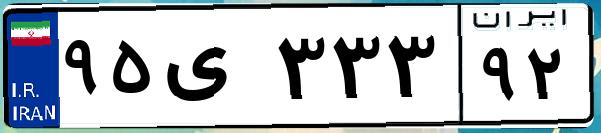2: (525, 38, 570, 115)
3: (270, 28, 330, 110), (385, 28, 445, 110), (330, 28, 385, 110)
5: (110, 28, 158, 98)
9: (57, 26, 110, 100), (475, 38, 525, 113)
ی: (158, 20, 270, 120)
